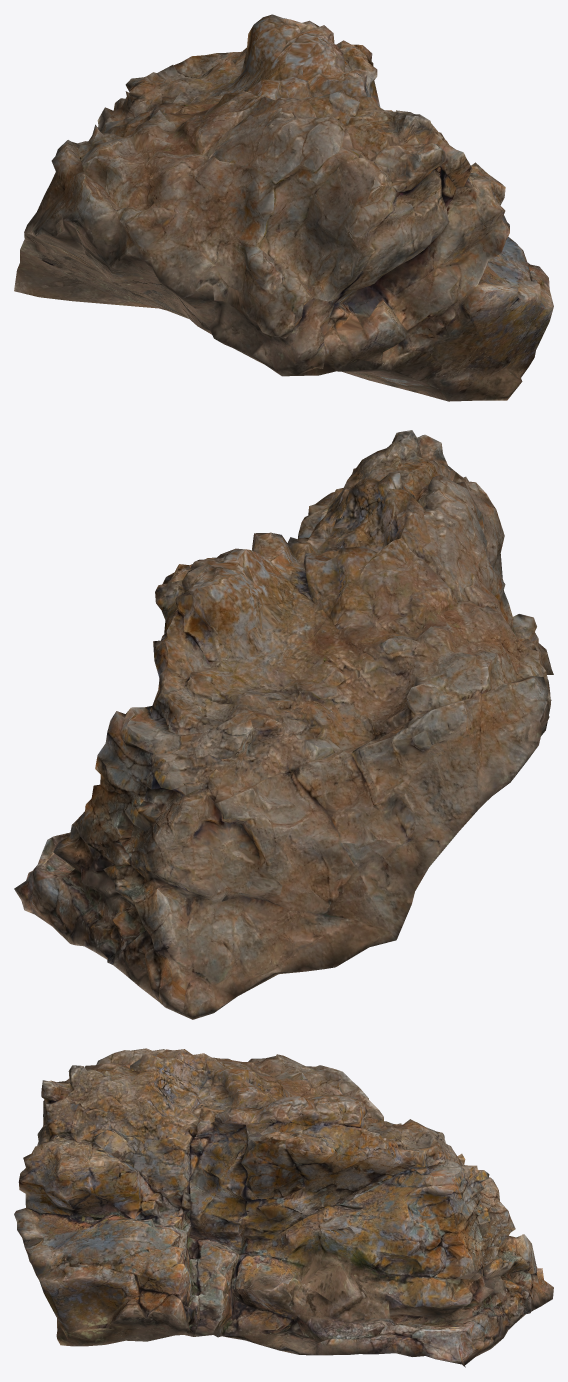
File: SM_Boulder_01.gltf
3 renders of one model, top to bottom at view 1: azimuth 30°, elevation 25°; view 2: azimuth 150°, elevation 25°; view 3: azimuth 270°, elevation 25°, orthographic. The views are drawn at different scales.
Visible parts, largest first — view 1: SM_Boulder_01; view 2: SM_Boulder_01; view 3: SM_Boulder_01.
Part boxes in pixels (<box>): SM_Boulder_01: <box>14,14,553,401</box>; SM_Boulder_01: <box>14,430,553,1019</box>; SM_Boulder_01: <box>14,1048,553,1367</box>.
Size of the model in its own units: 1.28 by 1 by 1.83.
Materials: 1 (1 with a texture image).
